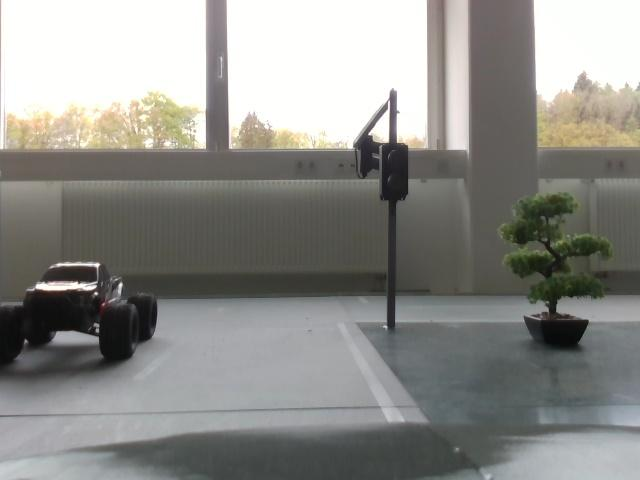car: (1, 249, 165, 381)
potted plant: (497, 191, 612, 355)
traffic light: (383, 144, 409, 201), (356, 138, 382, 178)
